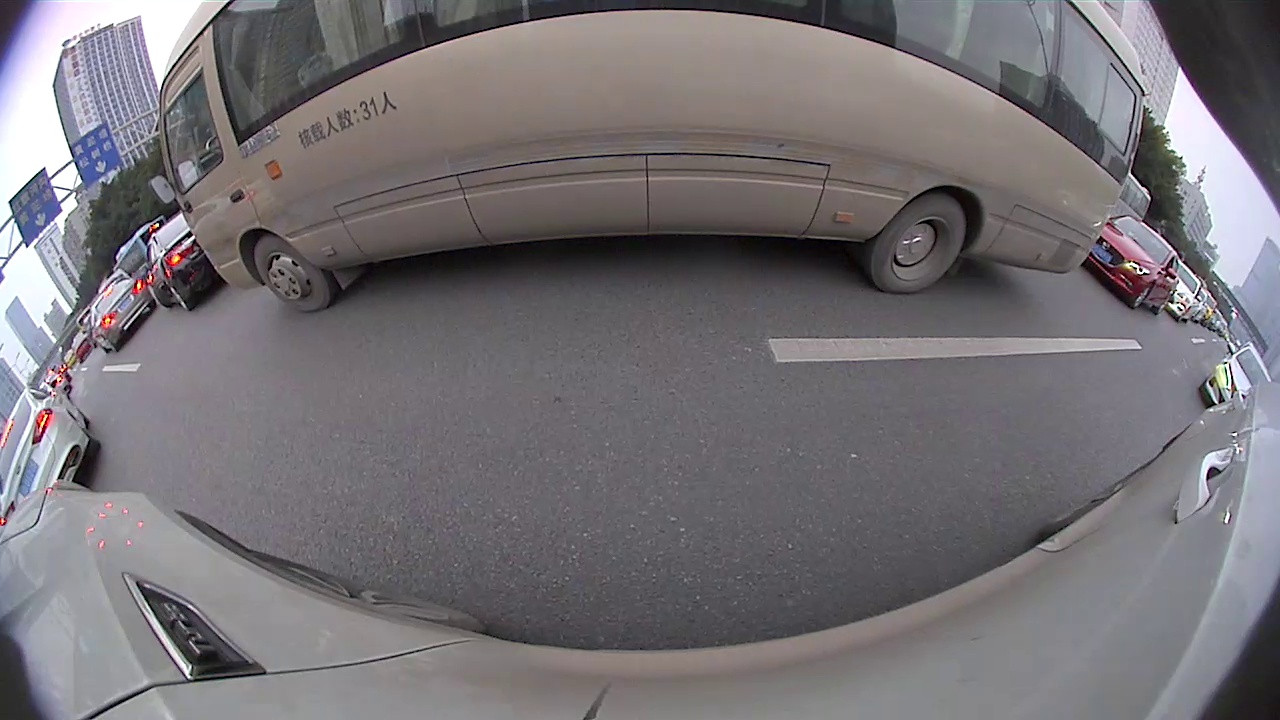car: (652, 73, 926, 178), (177, 129, 304, 212), (601, 49, 734, 111), (0, 319, 59, 400), (470, 66, 538, 103), (1194, 371, 1233, 425)
front: (610, 92, 628, 108), (573, 81, 587, 96), (474, 92, 486, 103)
rear: (933, 164, 948, 178), (515, 85, 526, 98)
truck: (564, 47, 642, 100)
